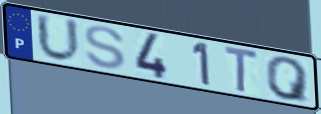1: (190, 41, 215, 88)
4: (133, 31, 171, 81)
Q: (263, 56, 311, 105)
S: (82, 24, 128, 72)
T: (222, 44, 261, 95)
U: (33, 11, 83, 65)
